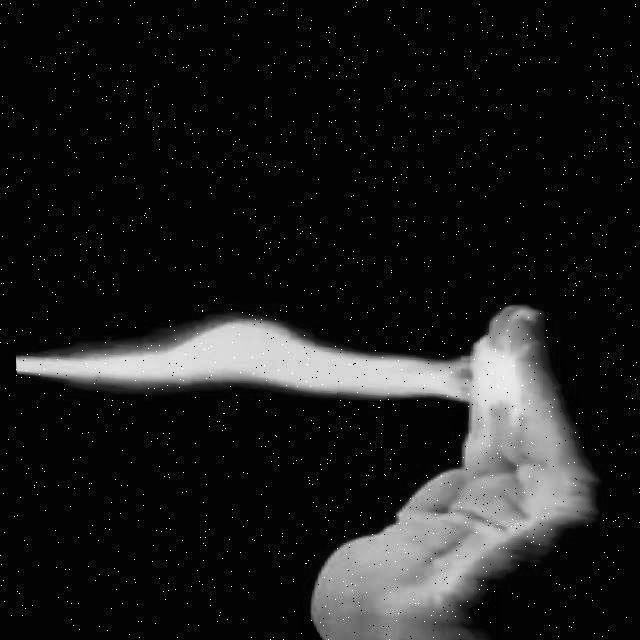Fire: (10, 287, 535, 440)
